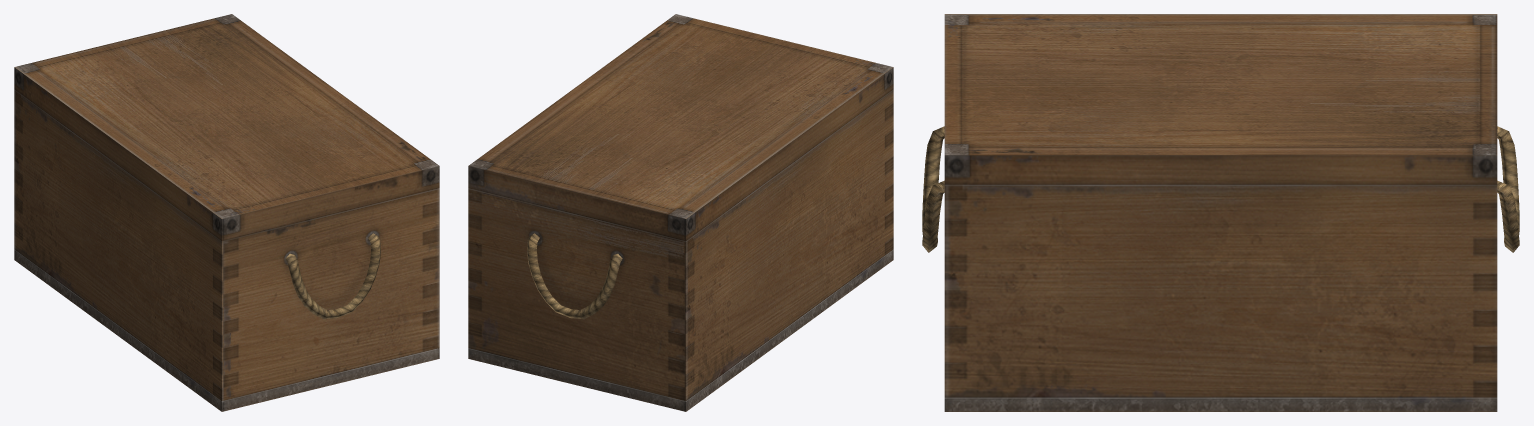
The model's file is ms_carte_wooden_close.fbx.
The picture shows the model from 3 angles, left to right: view 1: azimuth 30°, elevation 25°; view 2: azimuth 150°, elevation 25°; view 3: azimuth 270°, elevation 25°; orthographic projection. The views are drawn at different scales.
Visible parts, largest first — view 1: ms_carte_wooden_close; view 2: ms_carte_wooden_close; view 3: ms_carte_wooden_close.
Boxes of the visible parts, box(x1,y1,x2,y2) form: ms_carte_wooden_close: box(14, 14, 439, 411); ms_carte_wooden_close: box(468, 14, 893, 411); ms_carte_wooden_close: box(922, 14, 1519, 411).
Size of the model in its own units: 27.79 by 23.52 by 49.63.
